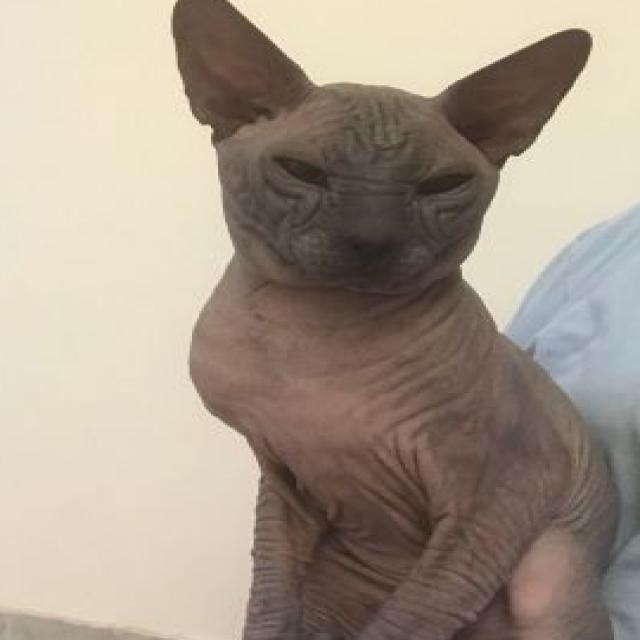Sphynx: (166, 0, 623, 640)
